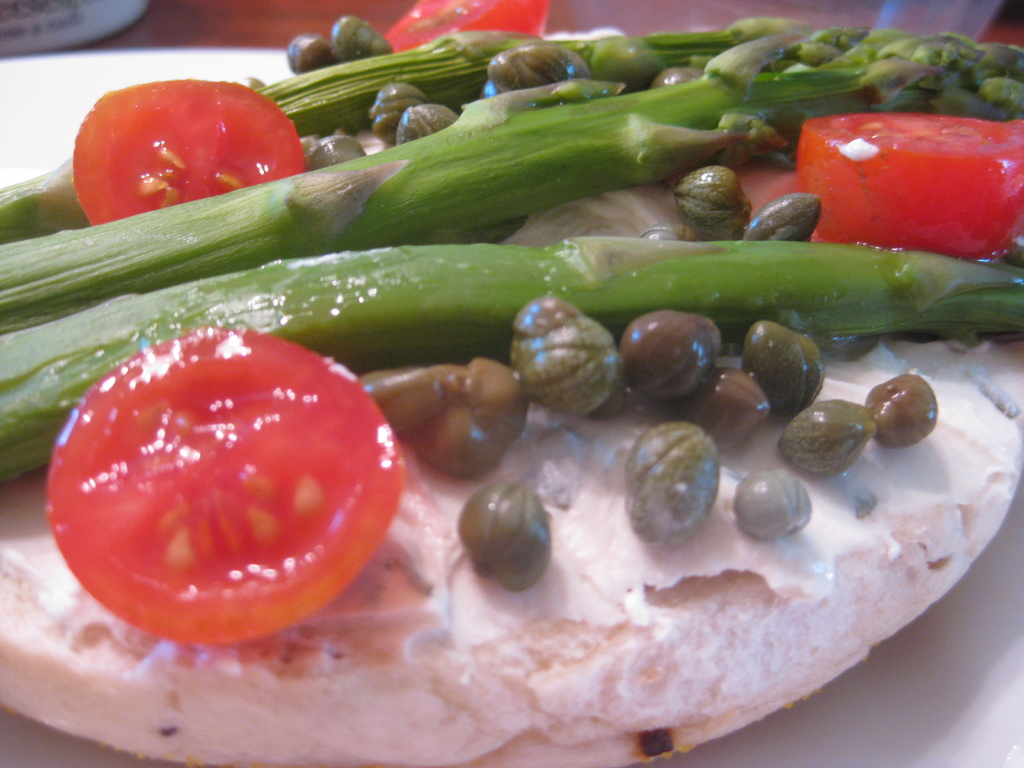Tomato: (26, 319, 416, 648), (792, 112, 1023, 264), (69, 78, 307, 225), (387, 0, 545, 51)
